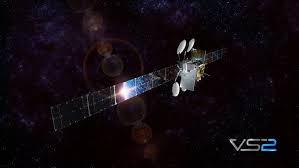antenna: (176, 39, 187, 55), (186, 38, 196, 53), (171, 82, 180, 96), (182, 87, 187, 92)
body: (179, 57, 206, 92)
solar: (49, 62, 181, 131), (203, 46, 228, 67)
